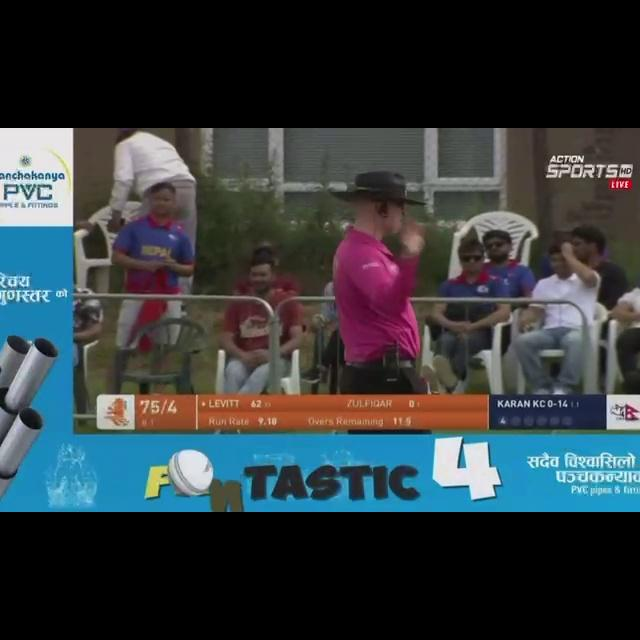umpire: (300, 172, 483, 399)
